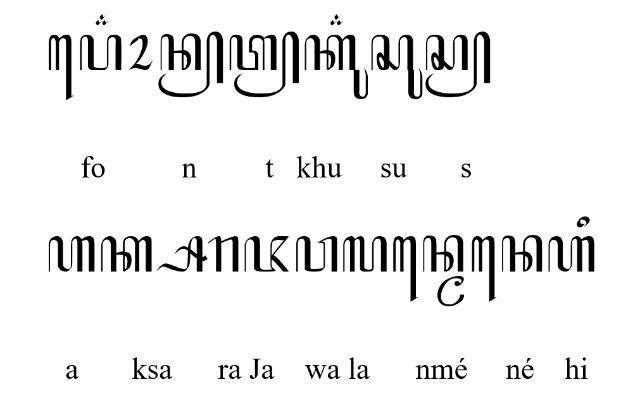-n: (158, 30, 224, 98)
-s: (425, 32, 491, 99)
-t: (228, 32, 300, 99)
_m: (437, 276, 465, 308)
_s: (154, 237, 208, 274)
alt: (328, 12, 344, 25), (95, 12, 109, 25)
e1: (392, 236, 418, 304), (471, 235, 497, 303), (48, 35, 74, 102)
h: (48, 235, 94, 273), (548, 236, 594, 272)
i: (576, 216, 590, 229)
j: (243, 237, 289, 274)
k: (100, 236, 154, 274)
ku: (305, 34, 369, 100)
l: (342, 237, 388, 274)
n: (422, 235, 464, 273), (501, 235, 543, 273)
o: (127, 34, 153, 70)
p: (78, 35, 122, 71)
r: (208, 237, 240, 274)
su: (371, 34, 424, 100)
w: (296, 236, 338, 274)
